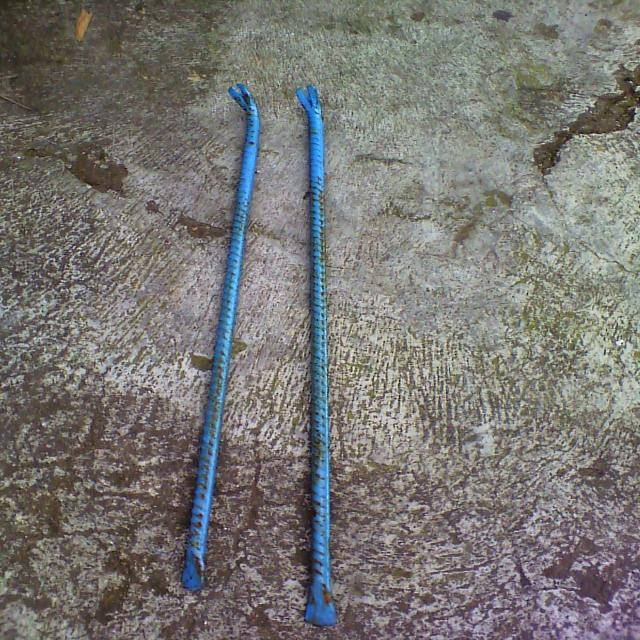Linggis: (182, 73, 274, 592), (283, 48, 352, 640)
